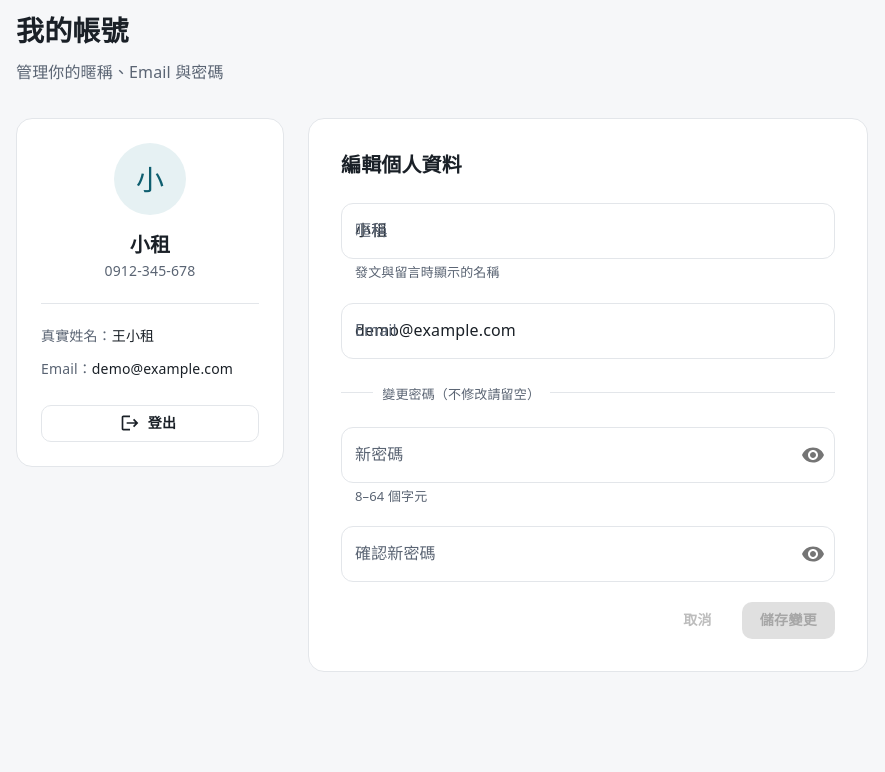
Test: ProfilePage — change password › asks for the current password only once a new password is being set
Expected: the field labelled "暱稱" holds "小租", [341,203,835,259]
Expected: the field labelled "目前密碼" is not shown
Type "a" into the password field labelled "新密碼" at (563, 455), box [341,427,785,483]
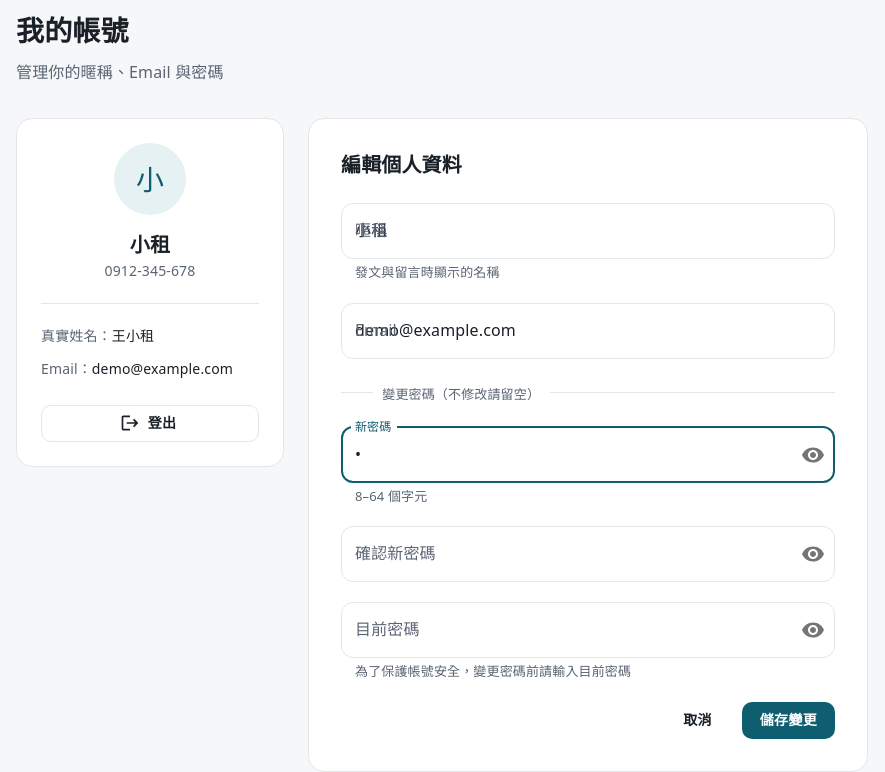
Now the password field labelled "目前密碼" is shown, box [341,602,785,658]
